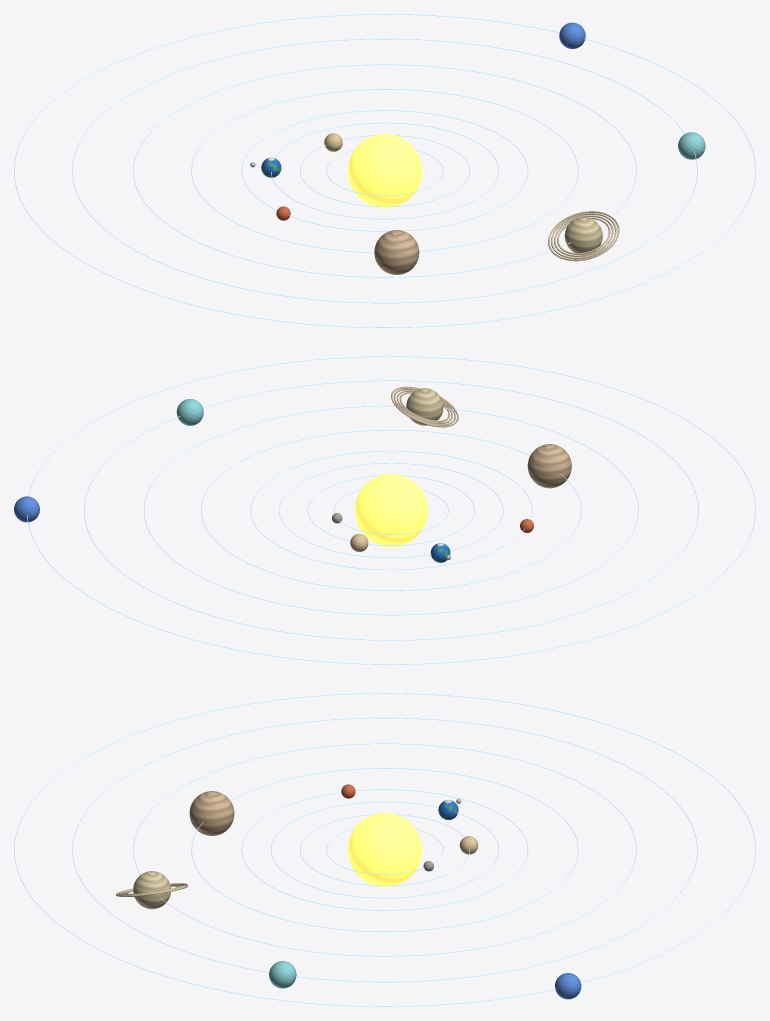
File: solar-system.glb
The picture shows the model from 3 angles, top to bottom: view 1: azimuth 30°, elevation 25°; view 2: azimuth 150°, elevation 25°; view 3: azimuth 270°, elevation 25°; orthographic projection.
Parts seen in each view (by area): view 1: surface_sun, path_neptune, path_uranus, surface_jupiter, path_saturn, surface_saturn, path_jupiter, path_mars, path_earth, surface_uranus, surface_neptune; view 2: surface_sun, path_neptune, path_uranus, surface_jupiter, path_saturn, surface_saturn, path_jupiter, path_mars, surface_uranus, path_earth, surface_neptune; view 3: surface_sun, path_neptune, path_uranus, surface_jupiter, path_saturn, surface_saturn, path_jupiter, path_mars, path_earth, surface_uranus, surface_neptune.
Boxes of the visible parts, x1,y1,x2,y2 form: surface_sun: (348,134,421,207); path_neptune: (14,14,755,327); path_uranus: (72,38,697,303); surface_jupiter: (374,230,419,274); path_saturn: (133,64,636,277); surface_saturn: (564,217,602,254); path_jupiter: (191,89,578,252); path_mars: (241,110,528,231); path_earth: (271,122,498,219); surface_uranus: (678,132,705,159); surface_neptune: (559,22,585,48); surface_sun: (355,474,427,546); path_neptune: (27,356,755,664); path_uranus: (84,380,698,640); surface_jupiter: (527,444,571,488); path_saturn: (144,405,638,615); surface_saturn: (406,388,443,425); path_jupiter: (201,430,581,590); path_mars: (250,450,532,570); surface_uranus: (176,399,203,425); path_earth: (279,463,503,557); surface_neptune: (14,496,39,522); surface_sun: (348,813,421,886); path_neptune: (14,693,755,1006); path_uranus: (72,717,697,982); surface_jupiter: (189,791,234,835); path_saturn: (133,743,636,956); surface_saturn: (133,871,170,909); path_jupiter: (191,768,578,931); path_mars: (241,789,528,910); path_earth: (271,801,498,898); surface_uranus: (269,961,296,988); surface_neptune: (555,973,581,999).
Bounding box in the file's own units: 28.02 × 2.8 × 28.02.
